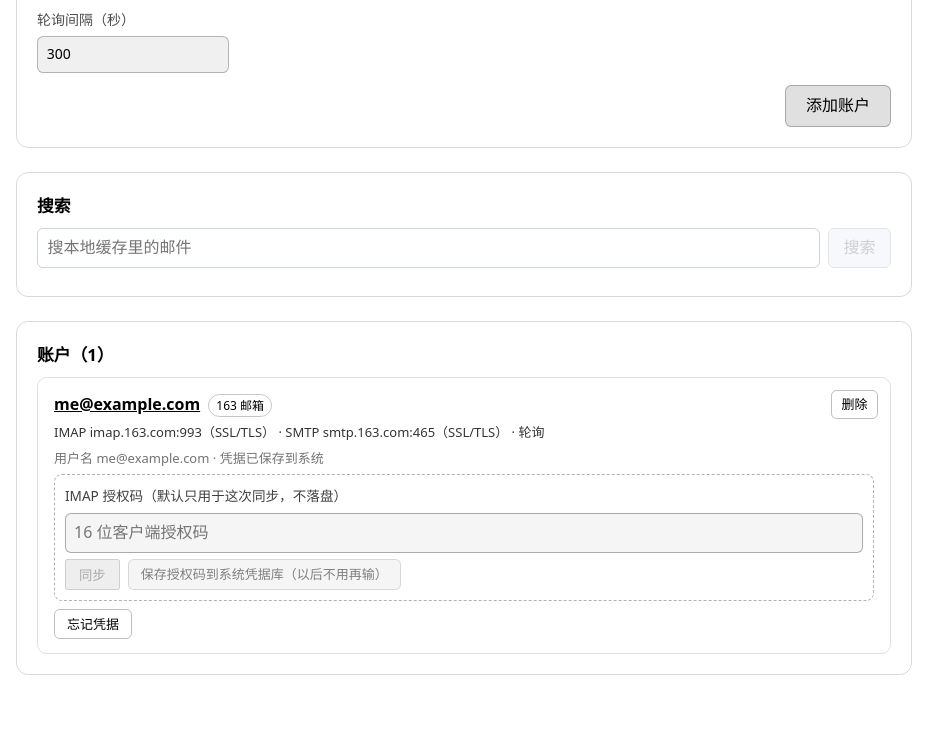
Test case: 写信界面 › 发送成功时显示「已发送」
This screenshot has width=929, height=739.
(page scrolled)
Click the button "me@example.com": click(127, 404) [54,392,200,417]
(page scrolled)
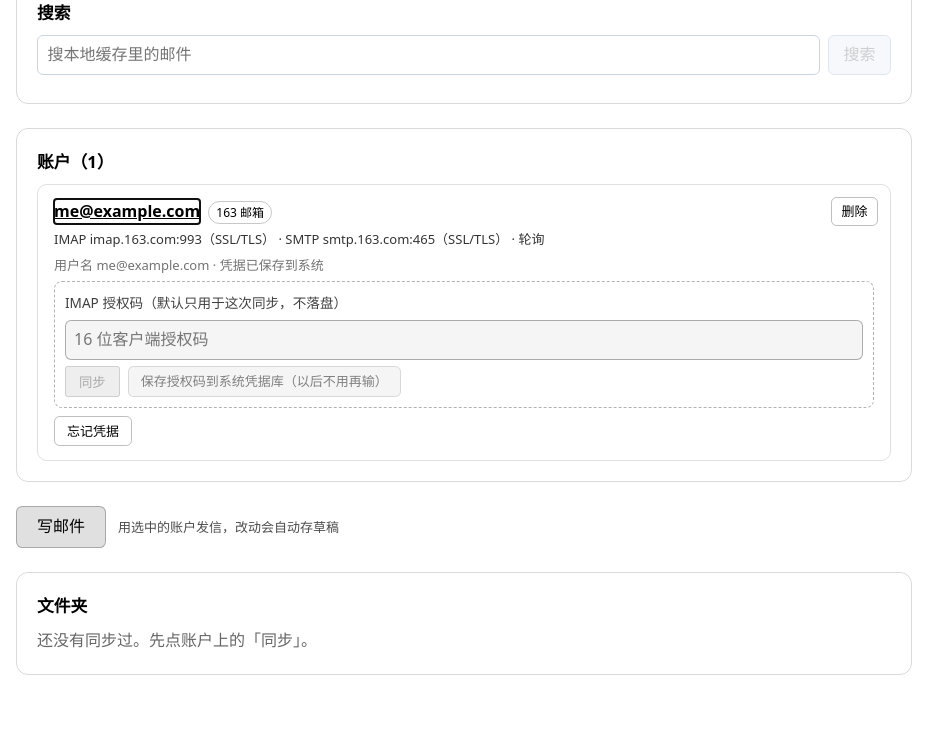
Click the button "写邮件": click(61, 527) [16,506,106,548]
(page scrolled)
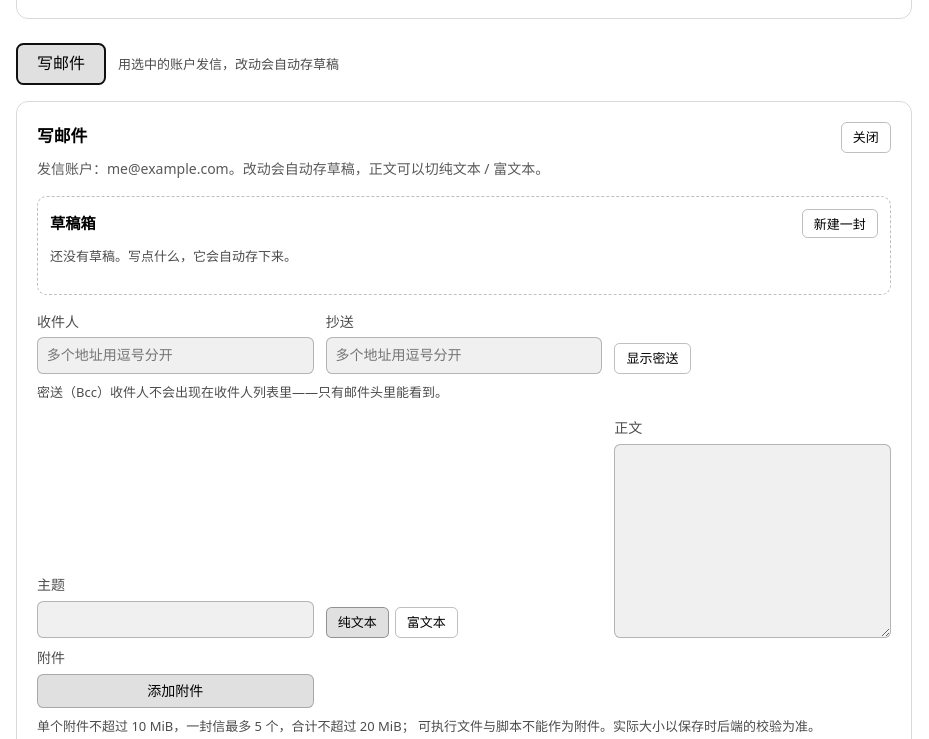
In the field labelled "收件人": (175, 356) [37,337,314,374], type "to@example.com"
(page scrolled)
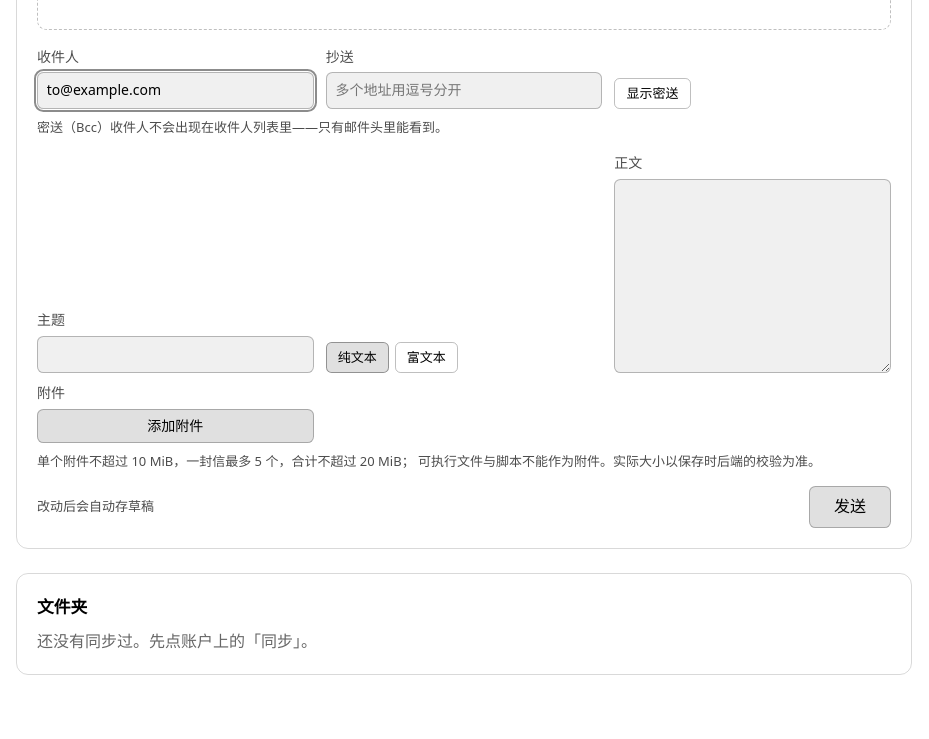
Click the button "发送": click(850, 507) [809,486,891,528]
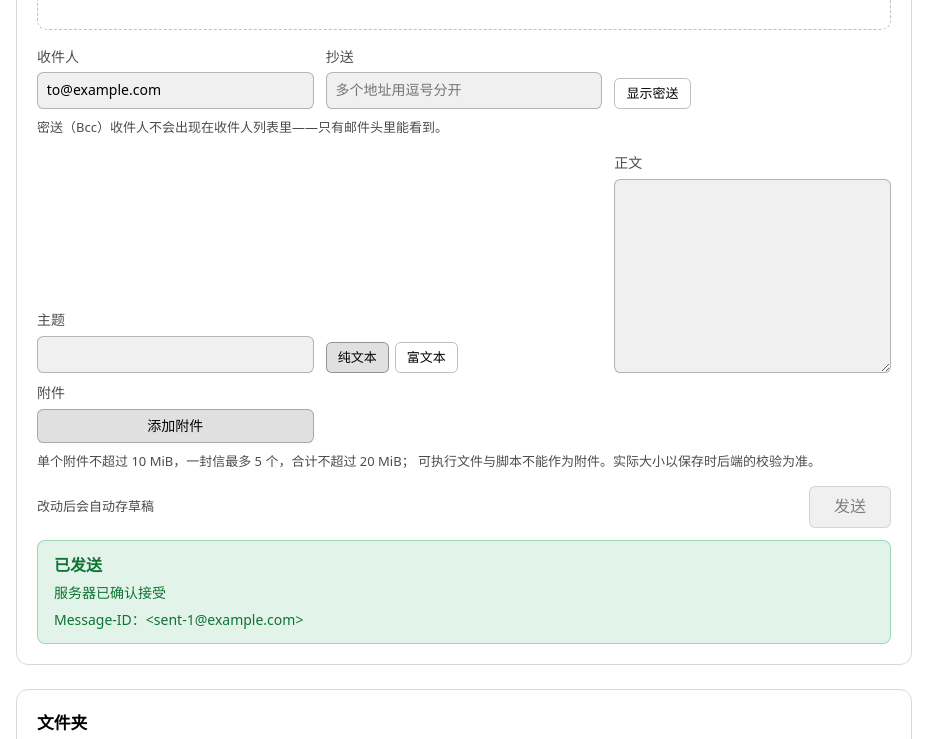
Expected: the message with test id "compose-send-result" shows "已发送", [54,554,102,576]
